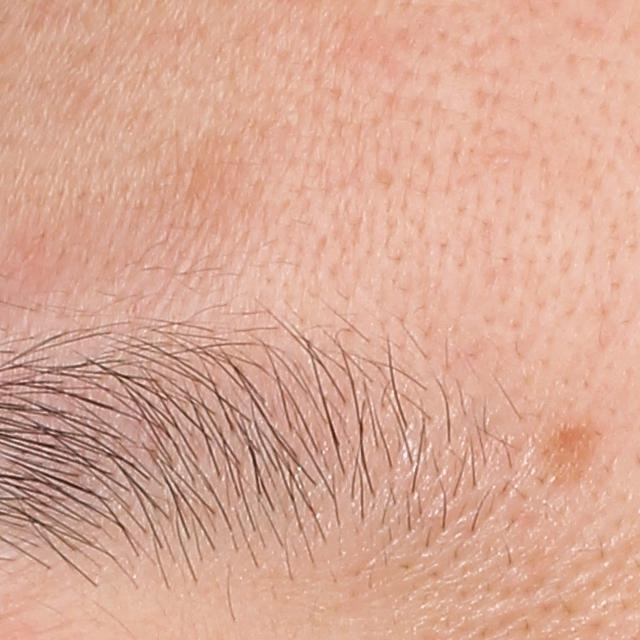melasma: (527, 419, 599, 496)
